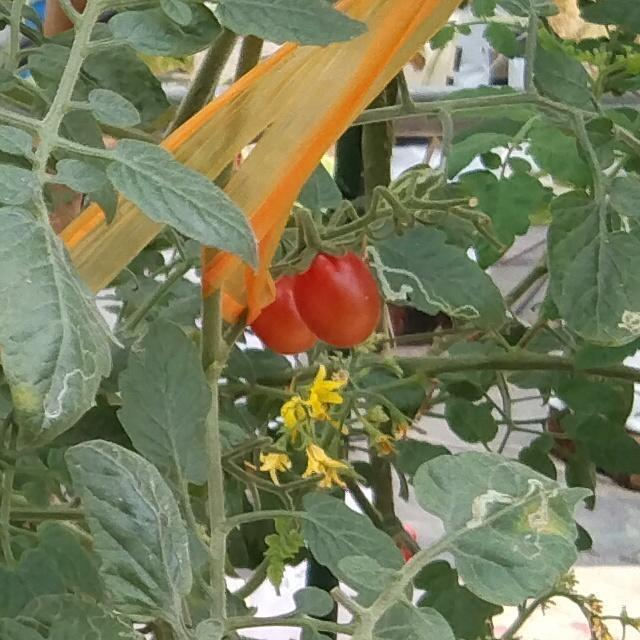Healthy: (107, 138, 259, 272), (214, 0, 370, 47)
Leaf_Miner: (407, 444, 596, 612), (0, 206, 117, 460), (333, 210, 518, 342), (547, 189, 640, 347)
